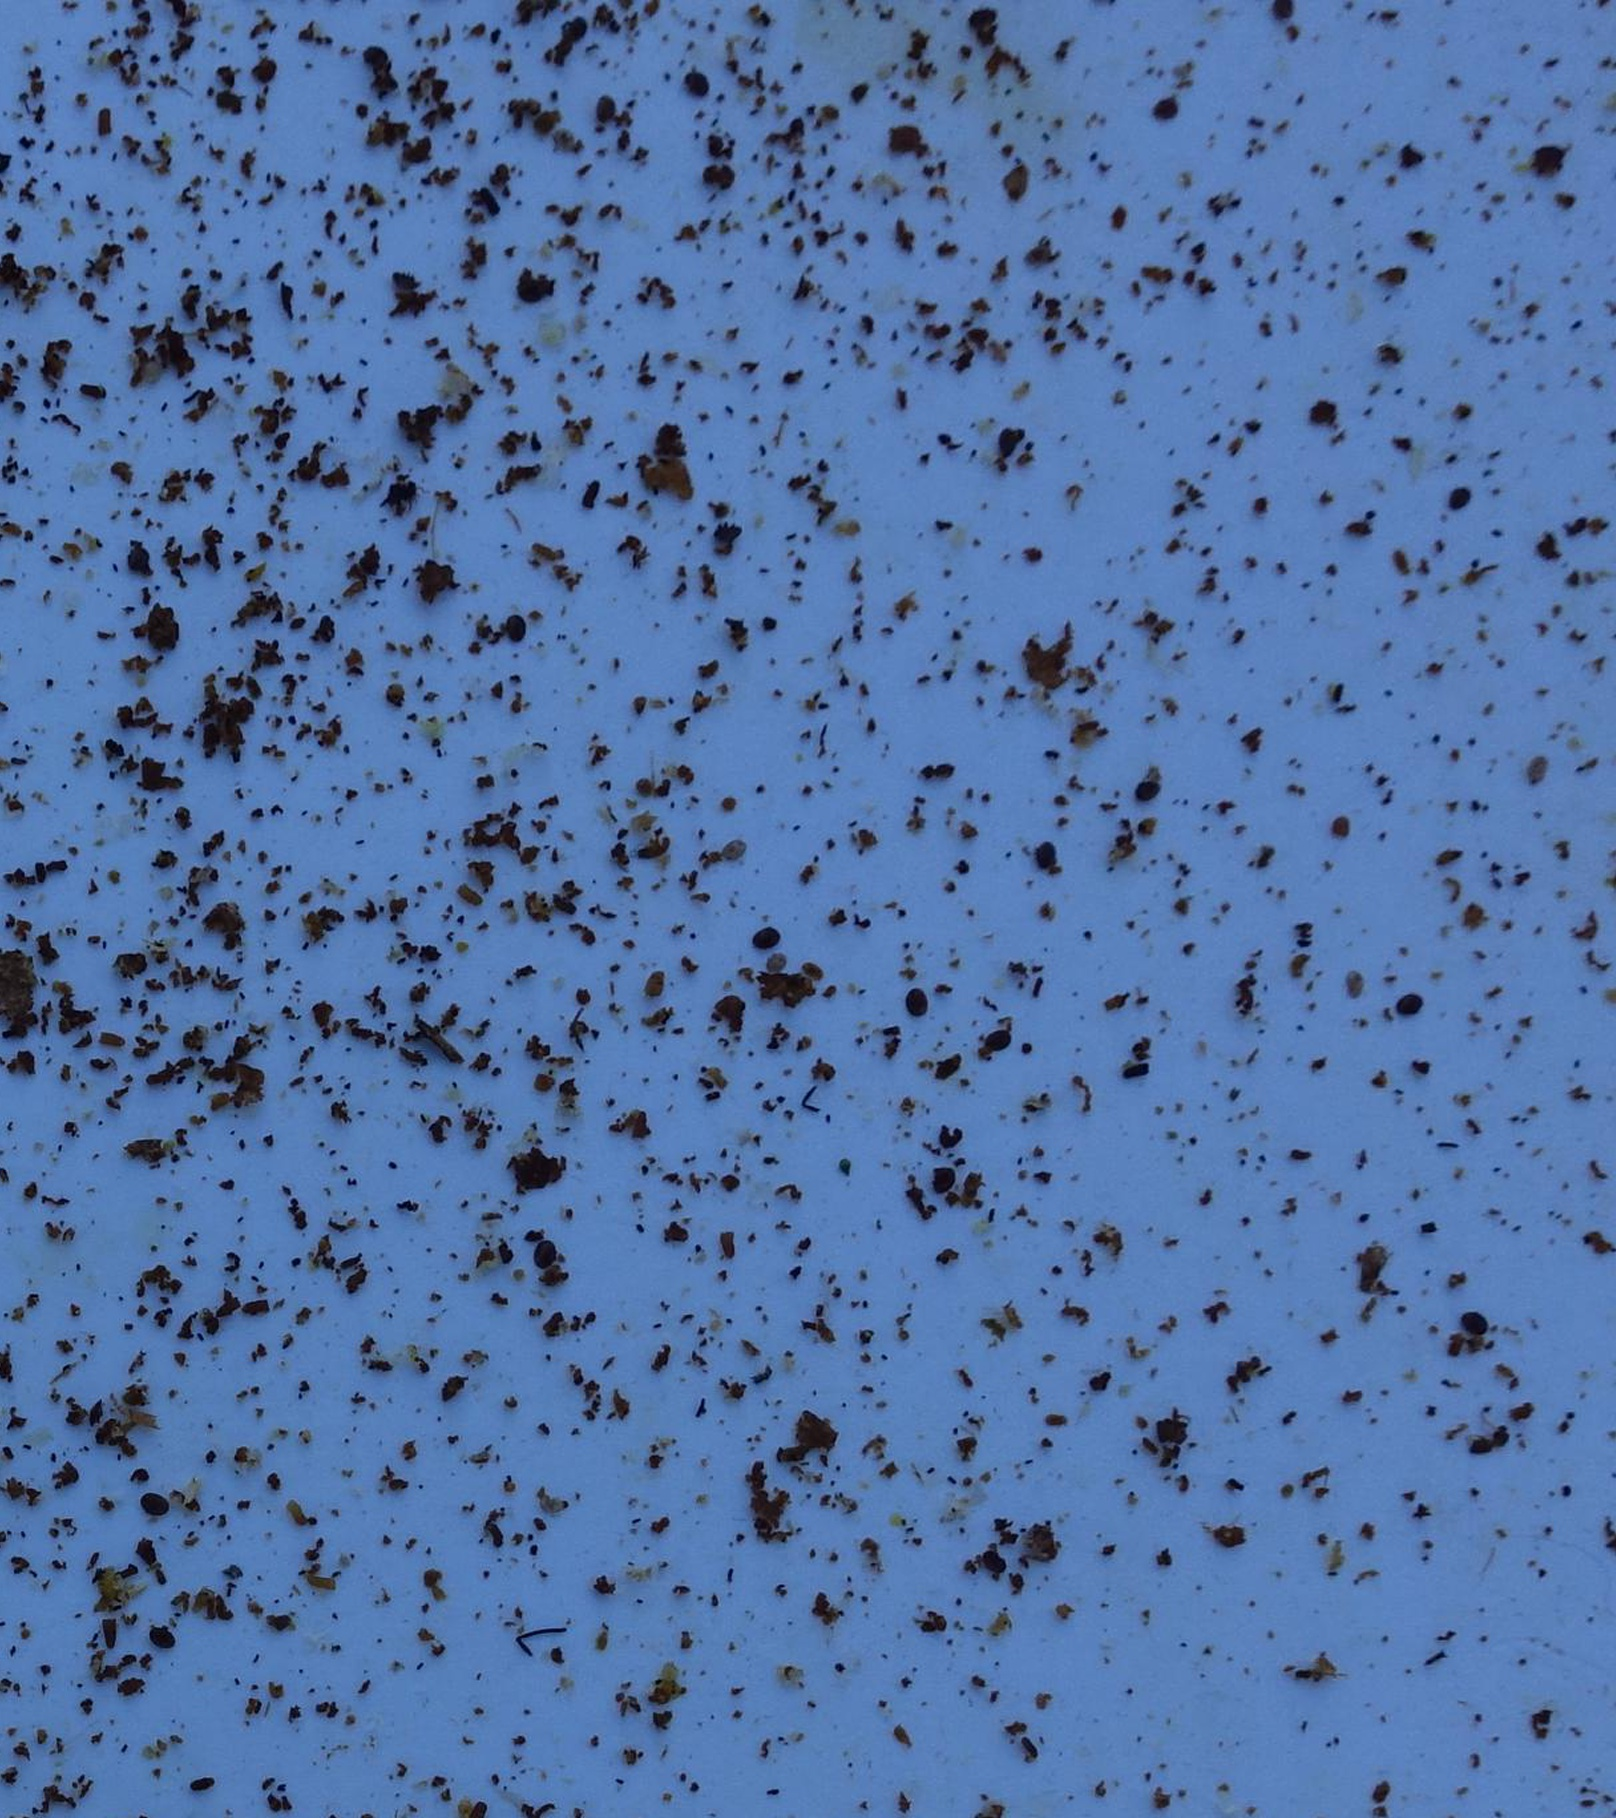Varroa: (1023, 833, 1067, 876), (384, 259, 426, 301), (142, 1615, 184, 1657), (973, 1542, 1015, 1584), (583, 86, 627, 126), (530, 1236, 562, 1268), (137, 1487, 167, 1516), (984, 1020, 1011, 1048), (905, 989, 931, 1015), (499, 613, 526, 639), (930, 1165, 955, 1191), (1466, 1307, 1491, 1333), (1395, 995, 1419, 1021), (686, 73, 710, 98), (752, 921, 775, 946), (1136, 783, 1159, 806)
